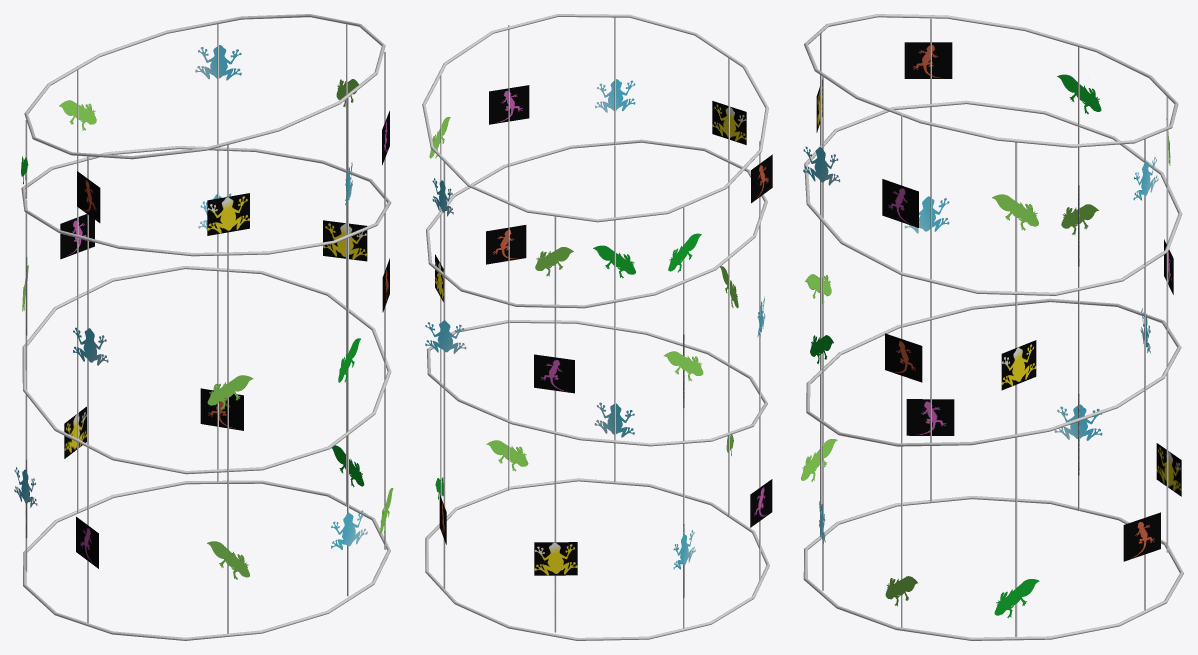
Rendered from adorno-central.obj.
The picture shows the model from 3 angles, left to right: view 1: azimuth 30°, elevation 25°; view 2: azimuth 150°, elevation 25°; view 3: azimuth 270°, elevation 25°; orthographic projection. The views are drawn at different scales.
Visible parts, largest first — view 1: pCube118; view 2: pCube118; view 3: pCube118.
Part boxes in pixels (bbox=[...]): pCube118: bbox=[14, 14, 393, 640]; pCube118: bbox=[422, 14, 772, 640]; pCube118: bbox=[801, 14, 1183, 640].
Bounding box in the file's own units: 6.26 × 9.53 × 6.16.
